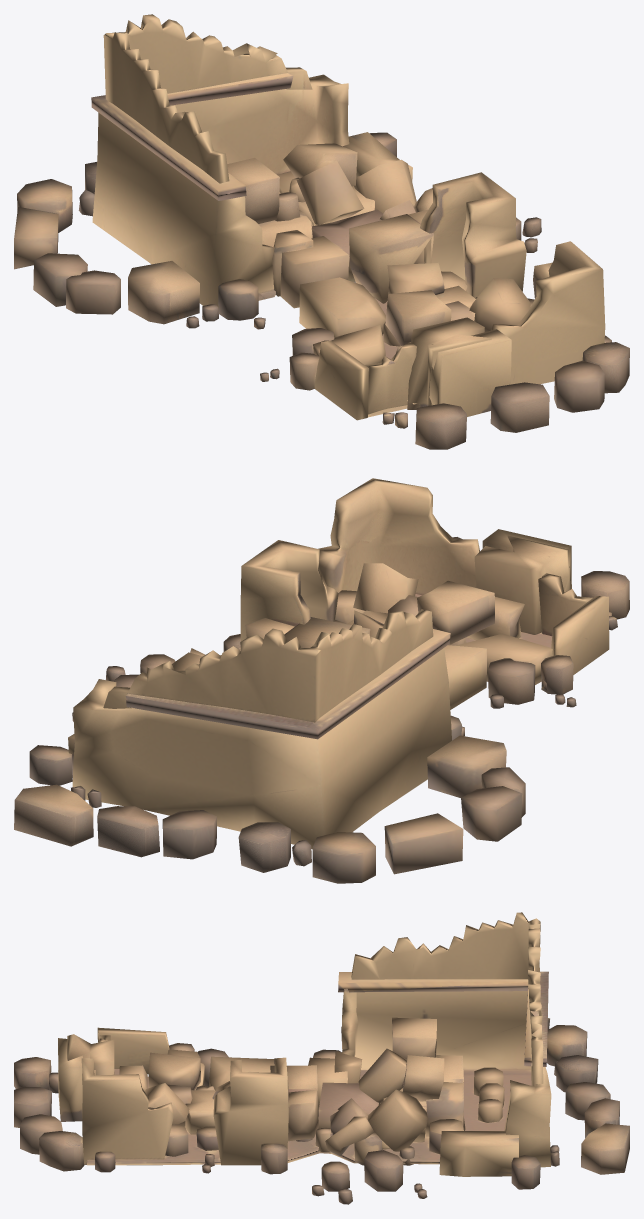
File: meshy-c2-d4.glb
3 views of the same model, one above another, from view 1: azimuth 30°, elevation 25°; view 2: azimuth 150°, elevation 25°; view 3: azimuth 270°, elevation 25° (orthographic). The views are drawn at different scales.
Size of the model in its own units: 0.6832 by 0.2949 by 1.
Materials: 1 (1 with a texture image).
